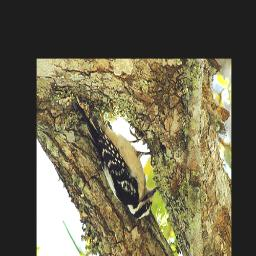Woodpecker: (73, 98, 160, 226)
